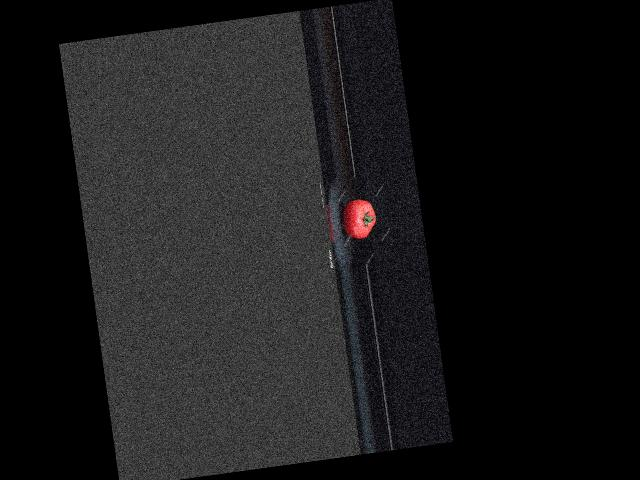tomato: (339, 196, 378, 240)
